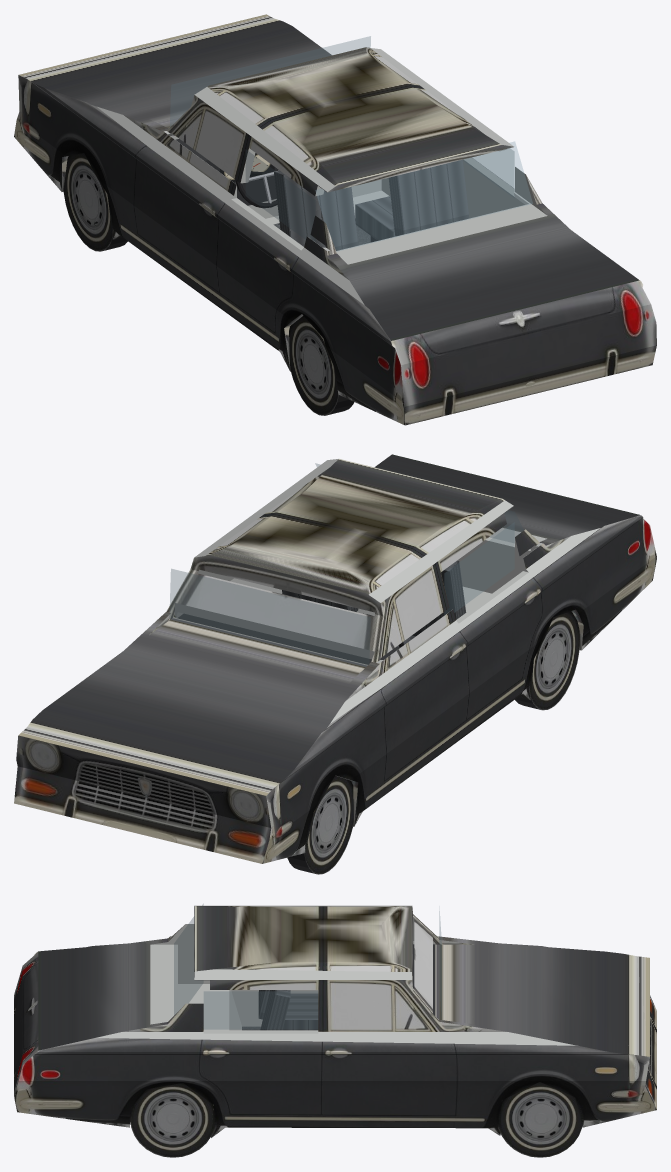
File: unmarked_car.glb
The picture shows the model from 3 angles, top to bottom: view 1: azimuth 30°, elevation 25°; view 2: azimuth 150°, elevation 25°; view 3: azimuth 270°, elevation 25°; orthographic projection. The views are drawn at different scales.
Visible parts, largest first — view 1: unmarked_car, unmarked_car_cabin, wheel_BL, wheel_FL; view 2: unmarked_car, unmarked_car_cabin, wheel_FL, wheel_BL; view 3: unmarked_car, unmarked_car_cabin, wheel_BR, wheel_FR.
Part boxes in pixels (bbox=[...]): unmarked_car: bbox=[14, 14, 656, 425]; unmarked_car_cabin: bbox=[170, 36, 532, 251]; wheel_BL: bbox=[289, 316, 354, 415]; wheel_FL: bbox=[63, 153, 127, 251]; unmarked_car: bbox=[14, 454, 656, 863]; unmarked_car_cabin: bbox=[169, 463, 523, 666]; wheel_FL: bbox=[287, 775, 353, 874]; wheel_BL: bbox=[515, 611, 579, 710]; unmarked_car: bbox=[14, 905, 656, 1137]; unmarked_car_cabin: bbox=[174, 904, 441, 1030]; wheel_BR: bbox=[130, 1083, 213, 1157]; wheel_FR: bbox=[500, 1082, 582, 1157].
Bounding box in the file's own units: 1.87 × 1.52 × 5.
Materials: 11 (4 with a texture image).
